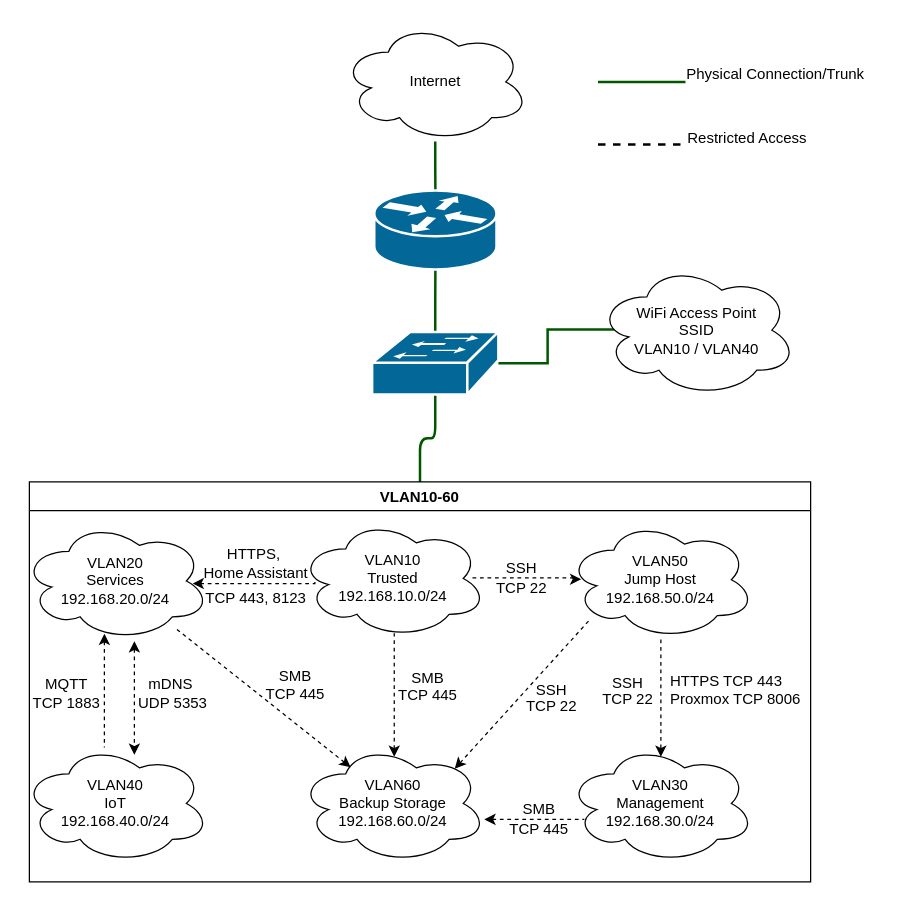
Some shapes in this 906 by 904 pixel diagram are drawn without their labels. The shapes that lost their labels are listed below. From the top down, each one's centre as x and y in pixels, then its label:
pixel 434 229: OPNsense
pixel 434 362: TL-SG108E
